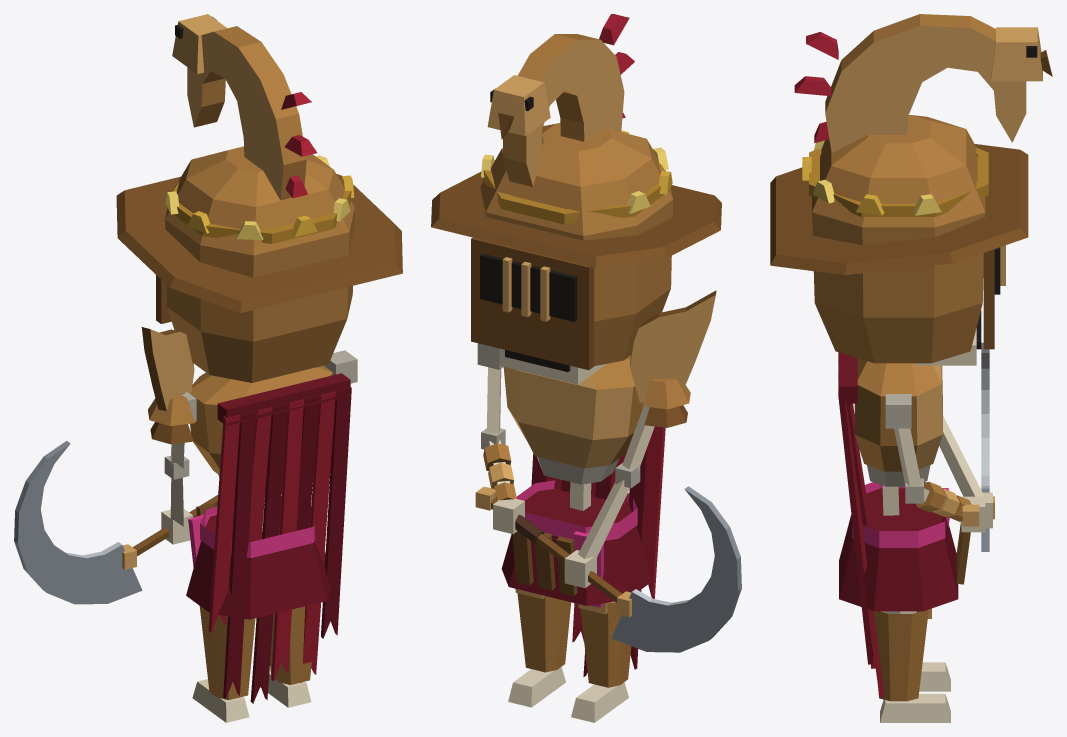
The model's file is EN_EternalVictor.fbx.
3 views of the same model, side by side, from view 1: azimuth 30°, elevation 25°; view 2: azimuth 150°, elevation 25°; view 3: azimuth 270°, elevation 25° (orthographic). The views are drawn at different scales.
Visible parts, largest first — view 1: Head, Body, Falx, ArmL, LegL, LegR, ArmR; view 2: Head, Body, ArmL, Falx, LegR, LegL, ArmR; view 3: Head, Body, LegR, ArmR, Falx, ArmL, LegL.
Part boxes in pixels (bbox=[...]): Head: bbox=[116, 14, 402, 382]; Body: bbox=[186, 365, 351, 703]; Falx: bbox=[14, 441, 217, 604]; ArmL: bbox=[141, 327, 196, 544]; LegL: bbox=[192, 606, 255, 722]; LegR: bbox=[260, 606, 311, 707]; ArmR: bbox=[324, 350, 357, 383]; Head: bbox=[431, 14, 721, 384]; Body: bbox=[501, 355, 665, 676]; ArmL: bbox=[564, 290, 716, 588]; Falx: bbox=[475, 486, 741, 652]; LegR: bbox=[508, 588, 571, 707]; LegL: bbox=[571, 601, 631, 722]; ArmR: bbox=[477, 343, 524, 534]; Head: bbox=[770, 14, 1052, 365]; Body: bbox=[838, 352, 970, 697]; LegR: bbox=[873, 608, 950, 722]; ArmR: bbox=[885, 394, 985, 532]; Falx: bbox=[962, 342, 994, 551]; ArmL: bbox=[939, 416, 992, 528]; LegL: bbox=[919, 662, 950, 691].
Size of the model in its own units: 1.9 by 1.4 by 3.73.
